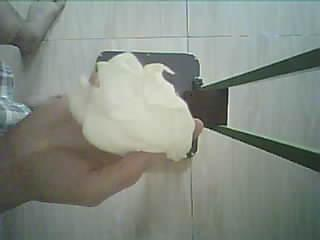paper: (65, 52, 202, 161)
